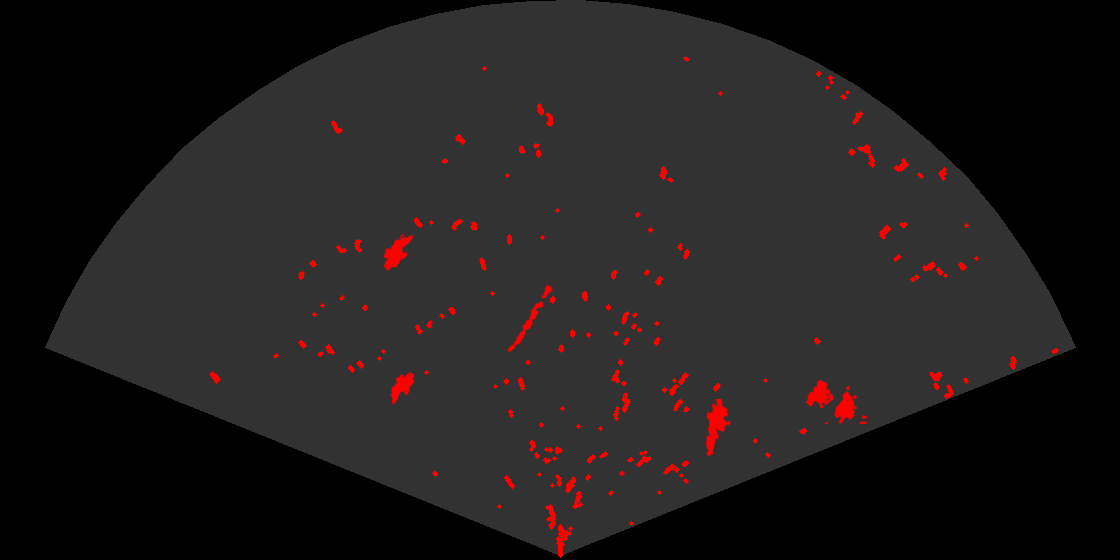AUV: (382, 233, 415, 272), (389, 370, 416, 406)
cage: (804, 378, 867, 424)
chain: (506, 280, 556, 354)
frogman: (704, 399, 733, 458)
